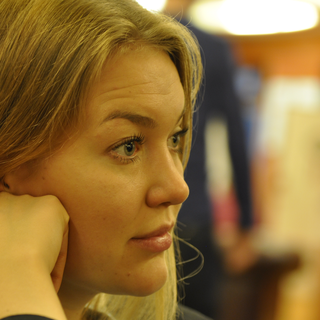eye: (107, 132, 149, 160), (165, 128, 188, 154)
